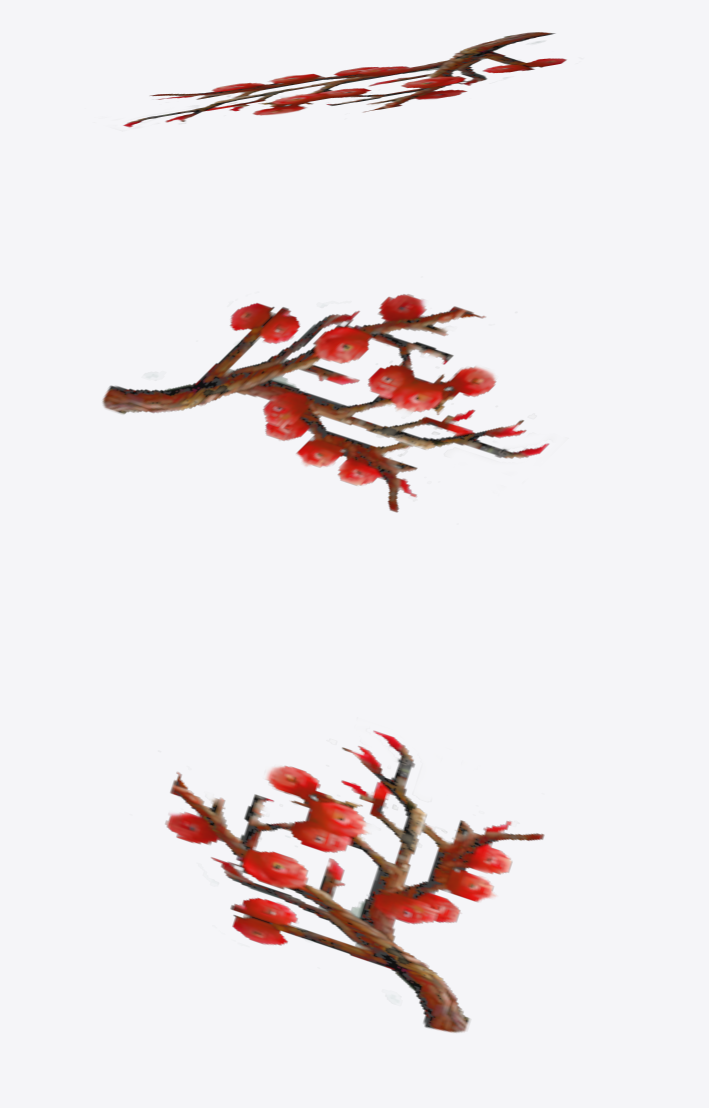
File: H1_RPl_Cherry4.gltf
The picture shows the model from 3 angles, top to bottom: view 1: azimuth 30°, elevation 25°; view 2: azimuth 150°, elevation 25°; view 3: azimuth 270°, elevation 25°; orthographic projection. The views are drawn at different scales.
Visible parts, largest first — view 1: H1_RPl_Cherry4; view 2: H1_RPl_Cherry4; view 3: H1_RPl_Cherry4.
Boxes of the visible parts, x1,y1,x2,y2 form: H1_RPl_Cherry4: (123, 32, 566, 127); H1_RPl_Cherry4: (102, 294, 567, 512); H1_RPl_Cherry4: (159, 718, 544, 1032).
Bounding box in the file's own units: 1.06 × 0.2763 × 1.03.
Materials: 1 (1 with a texture image).
